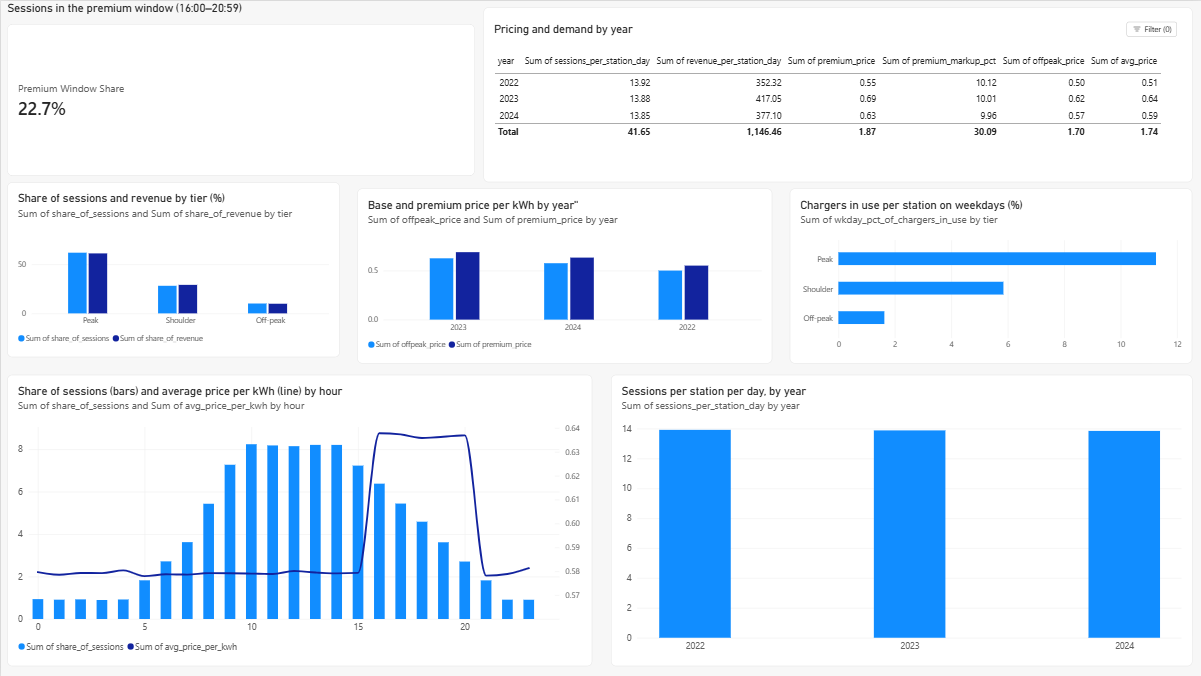

The dashboard page shown, as its layout file describes it:
{"tool":"powerbi","page":{"name":"Peak, Off-Peak & Pricing","canvas":[1920,1080],"ordinal":1},"visuals":[{"type":"cardVisual","title":"Sessions in the premium window (16:00–20:59)","fields":{"Data":["Measures (2).Premium Window Share"]},"box":[10,0,748,280],"z":0},{"type":"clusteredColumnChart","title":"Share of sessions and revenue by tier (%)","fields":{"Category":["peak_offpeak_summary.tier"],"Y":["Sum(peak_offpeak_summary.share_of_sessions)","Sum(peak_offpeak_summary.share_of_revenue)"]},"box":[10,290,532,280],"z":1},{"type":"barChart","title":"Chargers in use per station on weekdays (%)","fields":{"Category":["peak_offpeak_summary.tier"],"Y":["Sum(peak_offpeak_summary.wkday_pct_of_chargers_in_use)"]},"box":[1262,300,644,280],"z":2},{"type":"lineClusteredColumnComboChart","title":"Share of sessions (bars) and average price per kWh (line) by hour","fields":{"Category":["hourly_demand.hour"],"Y":["Sum(hourly_demand.share_of_sessions)"],"Y2":["Sum(hourly_demand.avg_price_per_kwh)"]},"box":[10,598,936,466],"z":3},{"type":"clusteredColumnChart","title":"Base and premium price per kWh by year\"","fields":{"Category":["pricing_by_year.year"],"Y":["Sum(pricing_by_year.offpeak_price)","Sum(pricing_by_year.premium_price)"]},"box":[570,300,664,280],"z":4},{"type":"columnChart","title":"Sessions per station per day, by year","fields":{"Category":["pricing_by_year.year"],"Y":["Sum(pricing_by_year.sessions_per_station_day)"]},"box":[976,598,930,466],"z":5},{"type":"tableEx","title":"Pricing and demand by year","fields":{"Values":["pricing_by_year.year","Sum(pricing_by_year.sessions_per_station_day)","Sum(pricing_by_year.revenue_per_station_day)","Sum(pricing_by_year.premium_price)","Sum(pricing_by_year.premium_markup_pct)","Sum(pricing_by_year.offpeak_price)","Sum(pricing_by_year.avg_price)"]},"box":[772,10,1134,280],"z":6}]}

Visuals, with their boxes in screenshot pixels (x1, y1, x2, y2), scaled from the page's 1920x1080 canvas onto the 1201x676 screenshot:
"Sessions in the premium window (16:00–20:59)" cardVisual: x1=6 y1=0 x2=474 y2=175
"Share of sessions and revenue by tier (%)" clusteredColumnChart: x1=6 y1=182 x2=339 y2=357
"Chargers in use per station on weekdays (%)" barChart: x1=789 y1=188 x2=1192 y2=363
"Share of sessions (bars) and average price per kWh (line) by hour" lineClusteredColumnComboChart: x1=6 y1=374 x2=592 y2=666
"Base and premium price per kWh by year"" clusteredColumnChart: x1=357 y1=188 x2=772 y2=363
"Sessions per station per day, by year" columnChart: x1=611 y1=374 x2=1192 y2=666
"Pricing and demand by year" tableEx: x1=483 y1=6 x2=1192 y2=182
